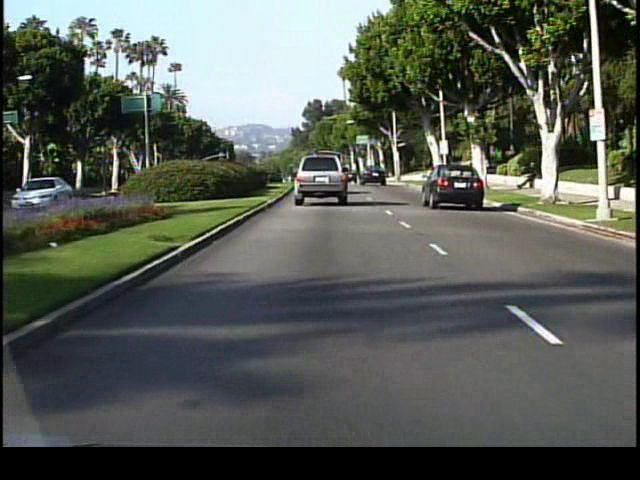person: (517, 158, 539, 195)
